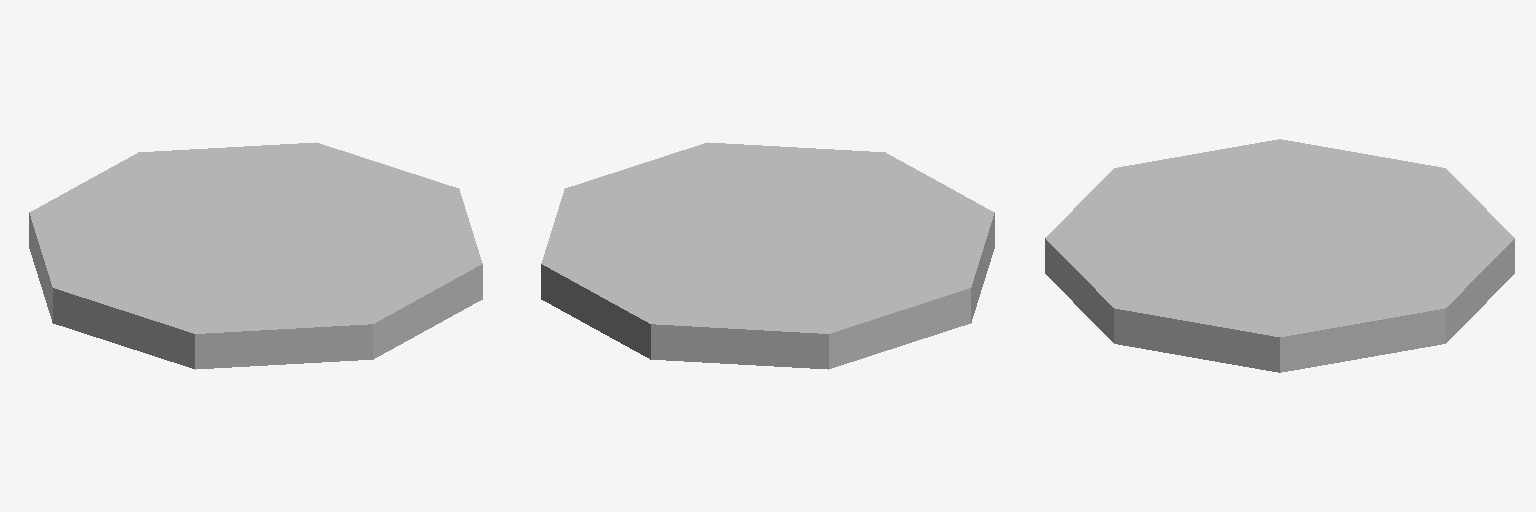
File: overhang-round.obj
3 renders of one model, left to right at view 1: azimuth 30°, elevation 25°; view 2: azimuth 150°, elevation 25°; view 3: azimuth 270°, elevation 25°, orthographic.
Visible parts, largest first — view 1: overhang-round; view 2: overhang-round; view 3: overhang-round.
Boxes of the visible parts, x1,y1,x2,y2 form: overhang-round: [29, 142, 482, 369]; overhang-round: [541, 142, 994, 369]; overhang-round: [1045, 139, 1514, 372].
Bounding box in the file's own units: 1.5 × 0.125 × 1.5.